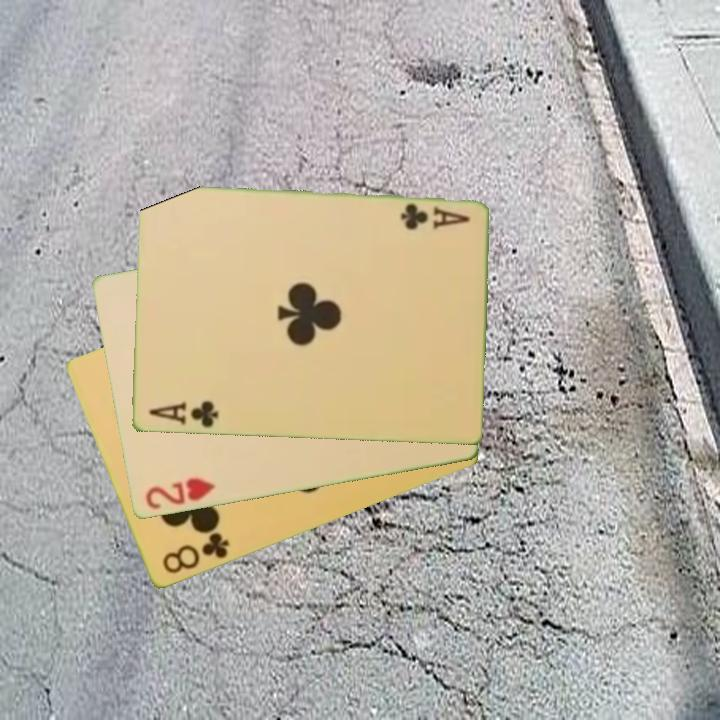2h: (141, 475, 218, 513)
8c: (158, 529, 232, 578)
Ac: (145, 398, 221, 431), (397, 200, 473, 233)
